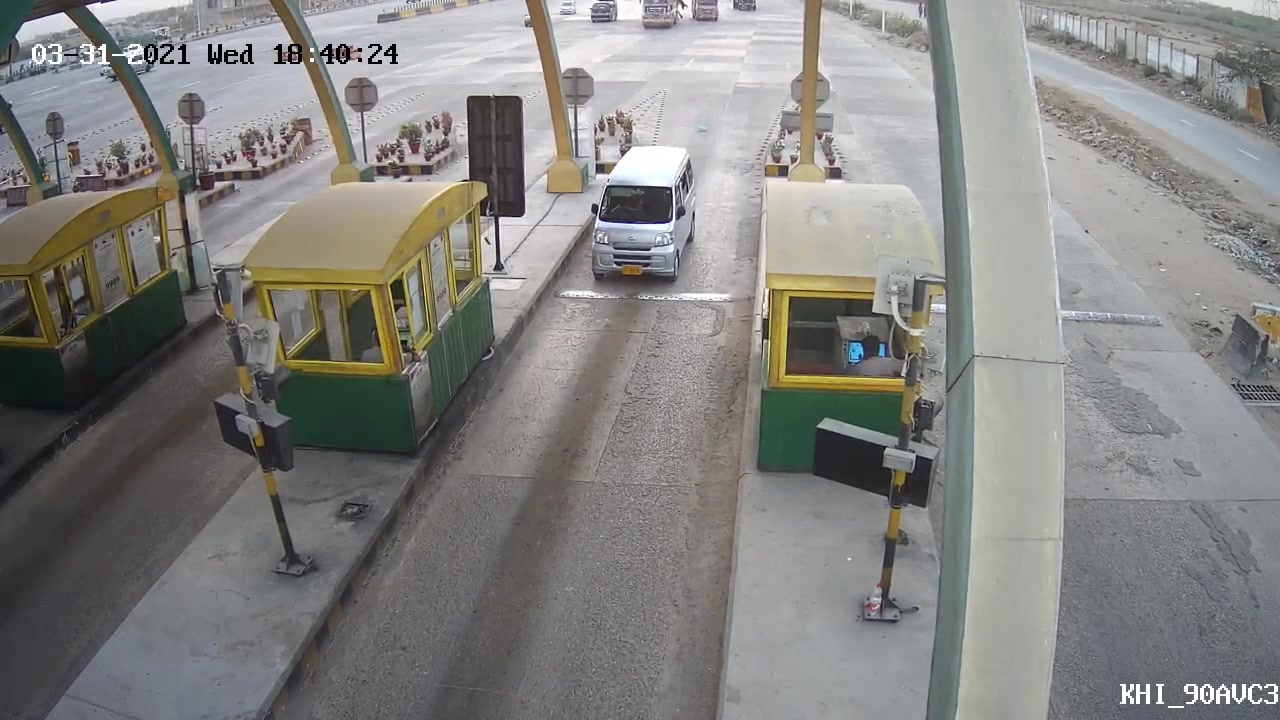F1: (579, 139, 707, 291)
